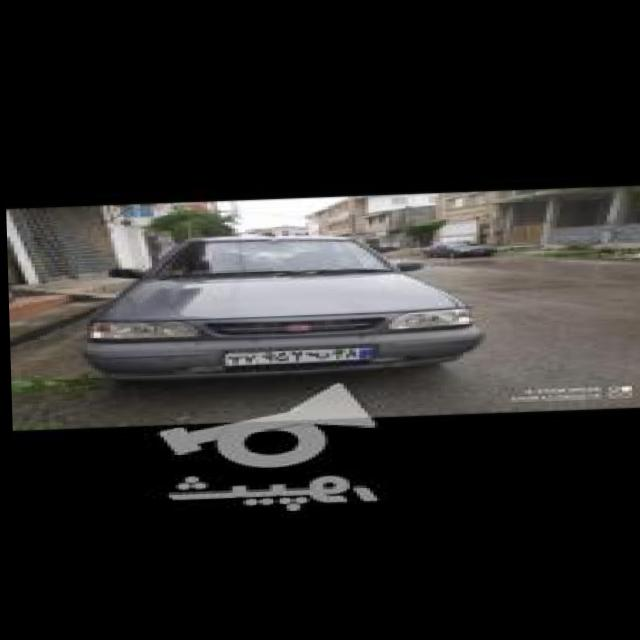licence: (226, 346, 377, 366)
